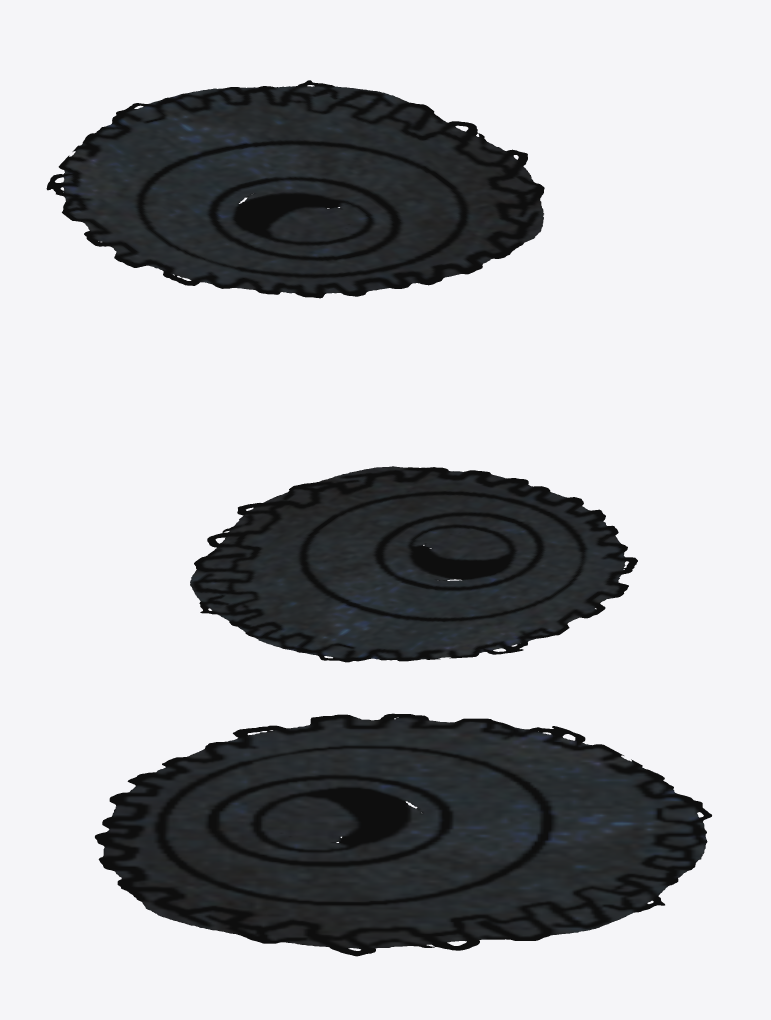
The picture shows the model from 3 angles, top to bottom: view 1: azimuth 30°, elevation 25°; view 2: azimuth 150°, elevation 25°; view 3: azimuth 270°, elevation 25°; orthographic projection. The views are drawn at different scales.
Parts seen in each view (by area): view 1: polySurface26; view 2: polySurface26; view 3: polySurface26.
Part boxes in pixels (<box>): polySurface26: <box>46,80,544,298</box>; polySurface26: <box>190,466,637,662</box>; polySurface26: <box>95,713,711,956</box>.
Bounding box in the file's own units: 4.08 × 0 × 4.15.
